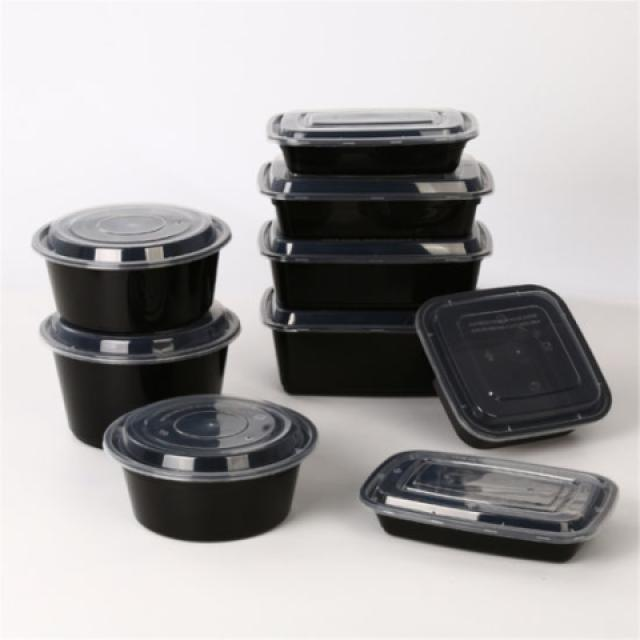plastic_box: (267, 96, 532, 401), (26, 192, 258, 455), (86, 367, 354, 560), (348, 439, 630, 589), (416, 266, 631, 454)
